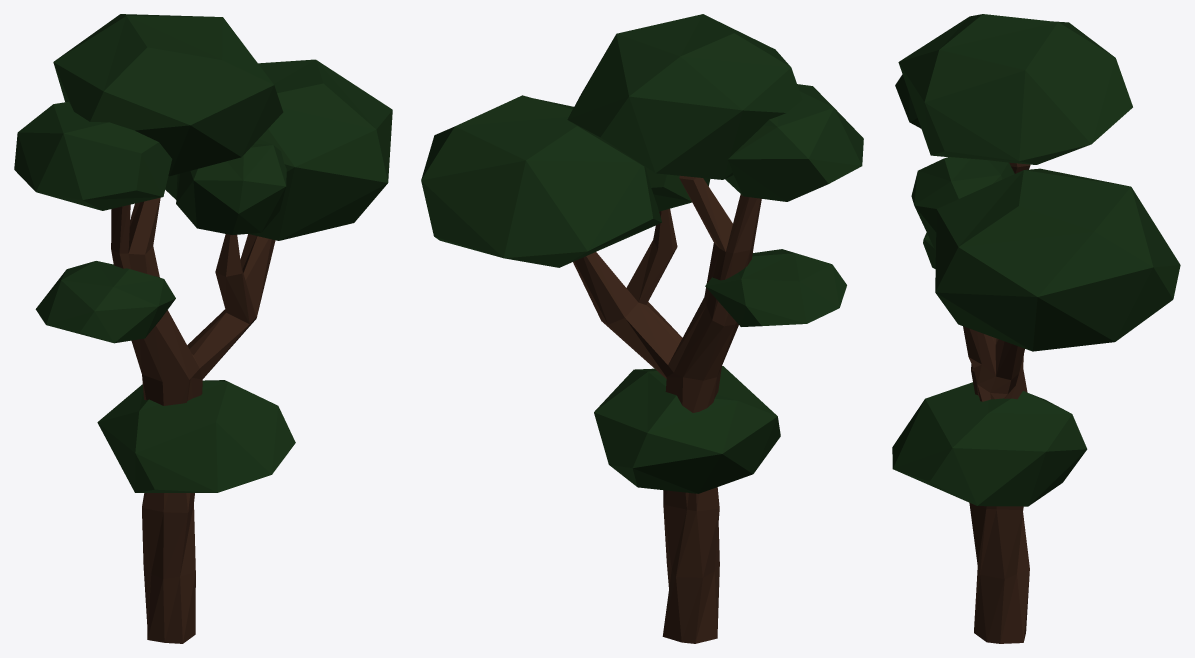
Rendered from Dandelion_Pin_Normal.FBX.
3 views of the same model, side by side, from view 1: azimuth 30°, elevation 25°; view 2: azimuth 150°, elevation 25°; view 3: azimuth 270°, elevation 25° (orthographic).
Parts seen in each view (by area): view 1: Cylinder052; view 2: Cylinder052; view 3: Cylinder052.
Part boxes in pixels (x1,y1,x2,y2): Cylinder052: (14, 14, 392, 643); Cylinder052: (421, 14, 863, 643); Cylinder052: (892, 14, 1180, 643).
Size of the model in its own units: 871 by 1275 by 552.
